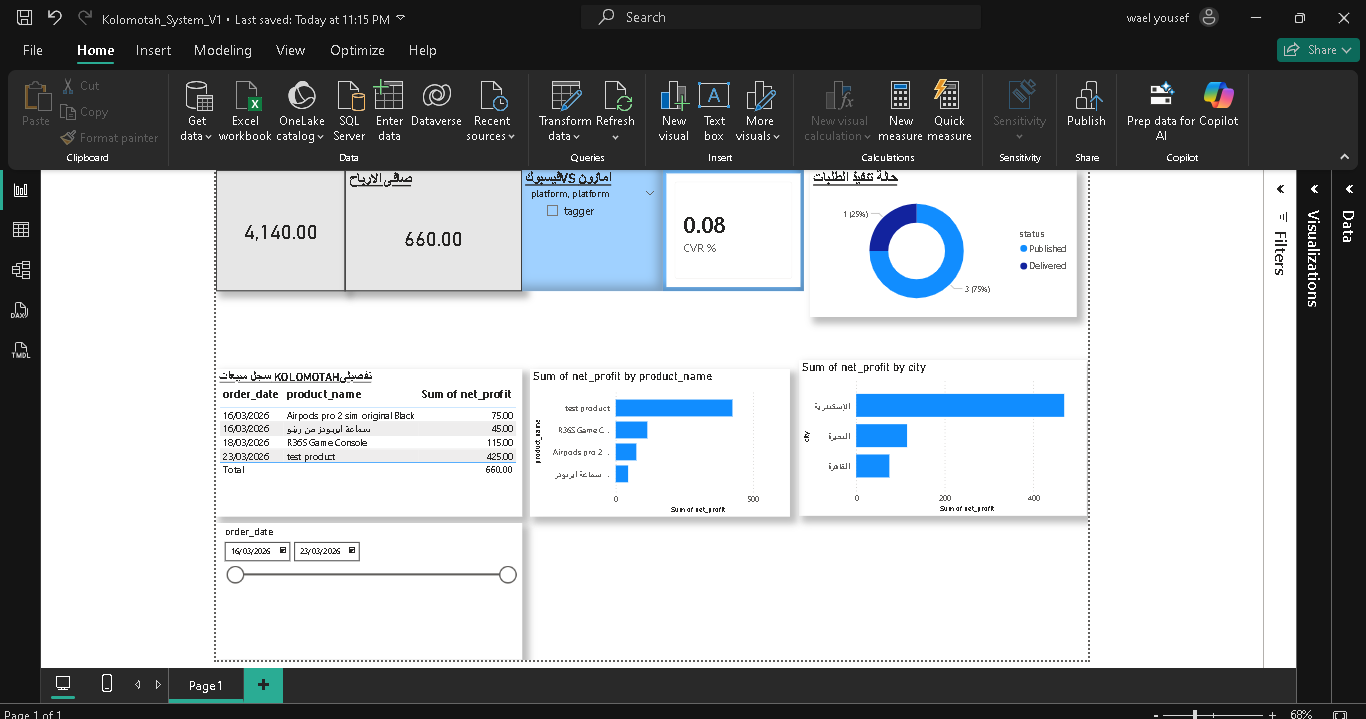

Layout of this report page (visuals, bound fields, positions):
{"tool":"powerbi","page":{"name":"Page 1","canvas":[1280,720],"ordinal":0},"visuals":[{"type":"card","fields":{"Values":["Sum(v_kolomotah_dashboard.sales)"]},"box":[0,0,189.6,177.8],"z":0},{"type":"card","title":"صافى الارباح","fields":{"Values":["Sum(v_kolomotah_dashboard.net_profit)"]},"box":[189.6,0,260.1,177.8],"z":1000},{"type":"clusteredBarChart","fields":{"Category":["v_kolomotah_dashboard.city"],"Y":["Sum(v_kolomotah_dashboard.net_profit)"]},"box":[856.7,279.2,423.2,229.2],"z":2000},{"type":"donutChart","title":"حالة تنفيذ الطلبات","fields":{"Category":["v_kolomotah_dashboard.status"],"Y":["Count(v_kolomotah_dashboard.order_id)"]},"box":[872.8,0,392.3,216],"z":3000},{"type":"slicer","title":"فيسبوكVS امازون","fields":{"Values":["v_kolomotah_dashboard.platform","v_kolomotah_dashboard.platform"]},"box":[449.6,0,207.2,177.8],"z":4000},{"type":"tableEx","title":"سجل مبيعات KOLOMOTAHتفصيلى","fields":{"Values":["v_kolomotah_dashboard.order_date","v_kolomotah_dashboard.product_name","Sum(v_kolomotah_dashboard.net_profit)"]},"box":[0,292.4,449.6,217.5],"z":5000},{"type":"cardVisual","fields":{"Data":["v_kolomotah_dashboard.CVR %"]},"box":[656.8,0,207.2,177.8],"z":5001},{"type":"barChart","fields":{"Category":["v_kolomotah_dashboard.product_name"],"Y":["Sum(v_kolomotah_dashboard.net_profit)"]},"box":[461.4,292.4,382,217.5],"z":5002},{"type":"slicer","fields":{"Values":["v_kolomotah_dashboard.order_date"]},"box":[0,519,450,201],"z":5003}]}

Visuals, with their boxes on the page's 1280x720 design canvas (x1, y1, x2, y2). These are canvas units, not pixel positions in the 1366x719 screenshot, which may show the page scaled, cropped or inside an application window:
card - Sum(v_kolomotah_dashboard.sales): locate(0, 0, 190, 178)
"صافى الارباح" card: locate(190, 0, 450, 178)
clusteredBarChart - v_kolomotah_dashboard.city x Sum(v_kolomotah_dashboard.net_profit): locate(857, 279, 1280, 508)
"حالة تنفيذ الطلبات" donutChart: locate(873, 0, 1265, 216)
"فيسبوكVS امازون" slicer: locate(450, 0, 657, 178)
"سجل مبيعات KOLOMOTAHتفصيلى" tableEx: locate(0, 292, 450, 510)
cardVisual - v_kolomotah_dashboard.CVR %: locate(657, 0, 864, 178)
barChart - v_kolomotah_dashboard.product_name x Sum(v_kolomotah_dashboard.net_profit): locate(461, 292, 843, 510)
slicer - v_kolomotah_dashboard.order_date: locate(0, 519, 450, 720)
